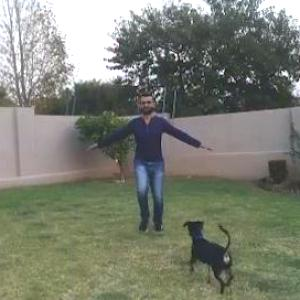land: (72, 87, 209, 253)
